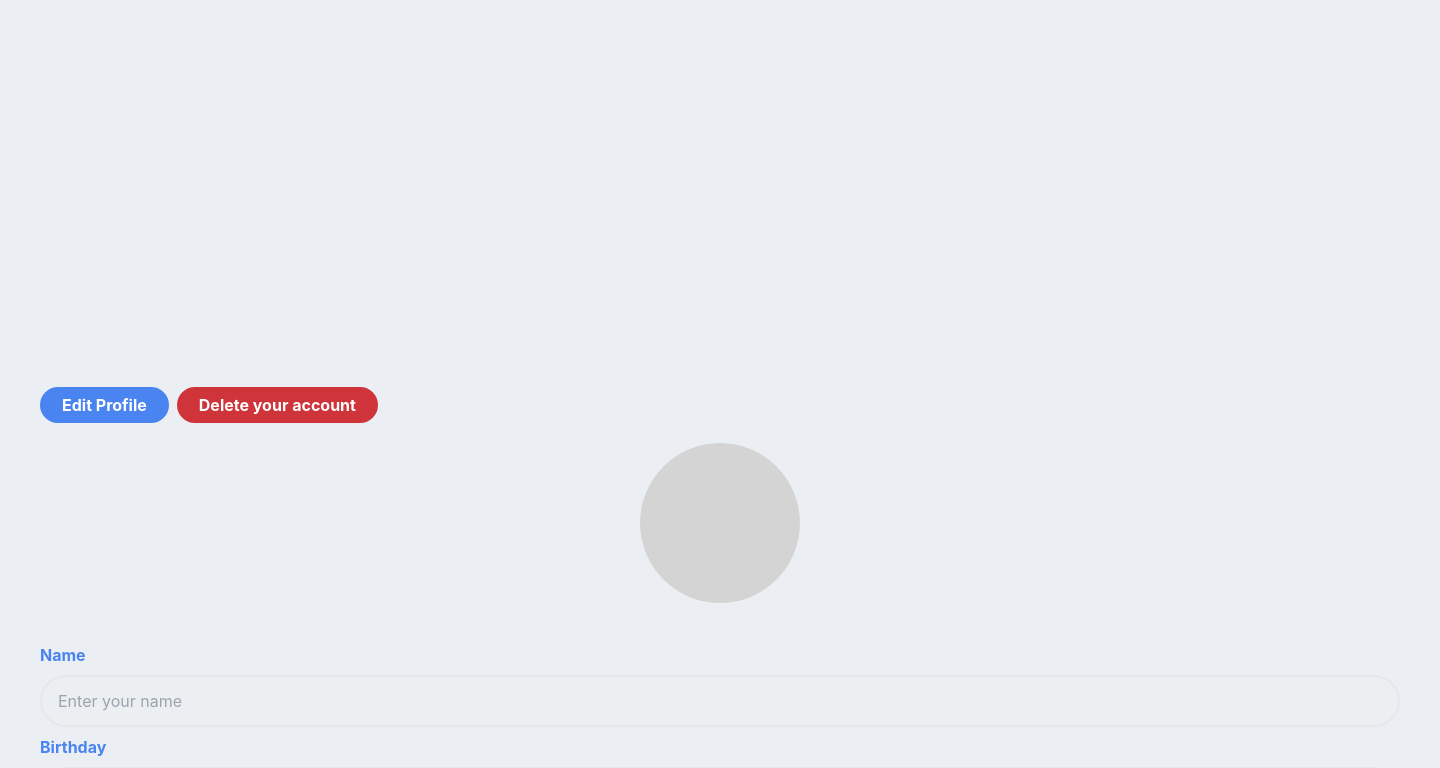
Test: Profile: Profile options: 'Edit profile' button › should change to 'edit profile' if the edit button is clicked again
(page scrolled)
Click the button "Edit Profile" at (104, 405), box [40, 387, 169, 423]
(page scrolled)
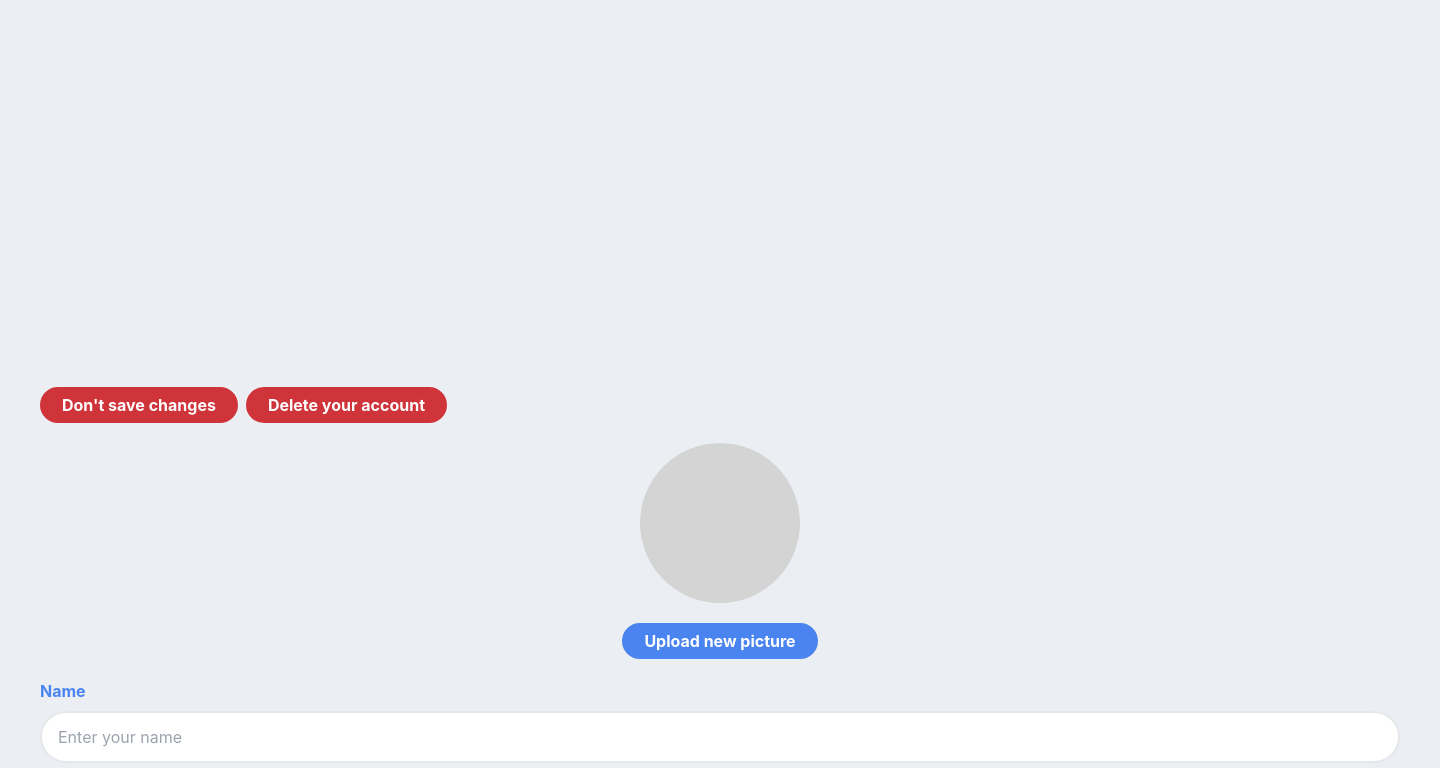
Click the button "Edit Profile" at (139, 405), box [40, 387, 238, 423]
(page scrolled)
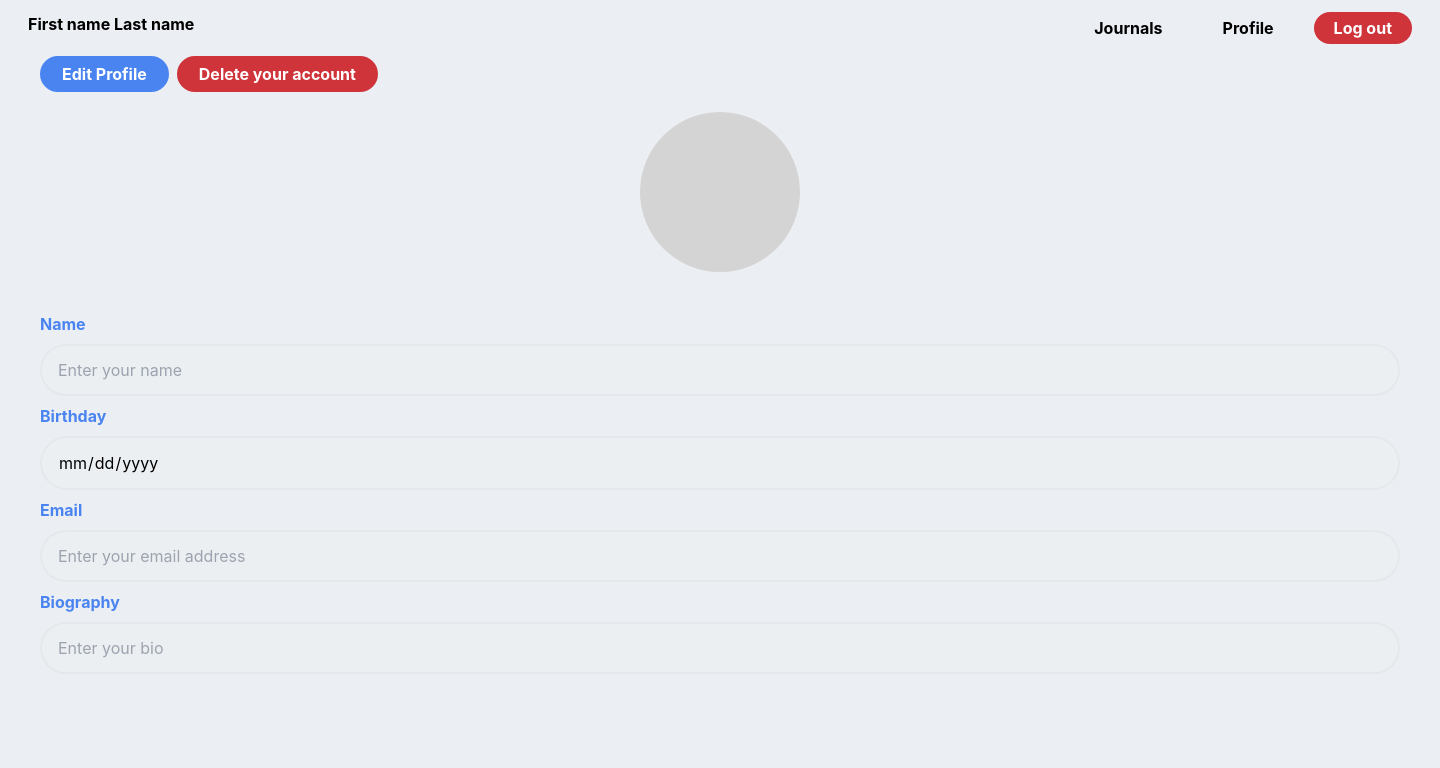
Now the button "Edit Profile" is shown, box [40, 56, 169, 92]
